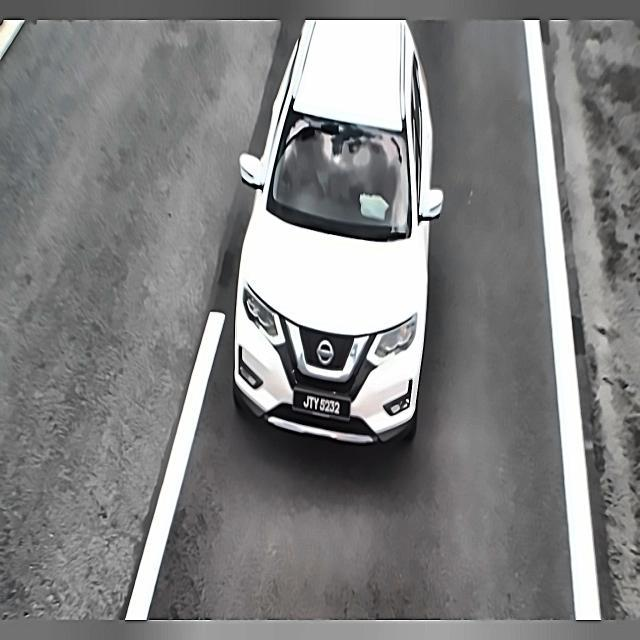car: (292, 387, 351, 427)
